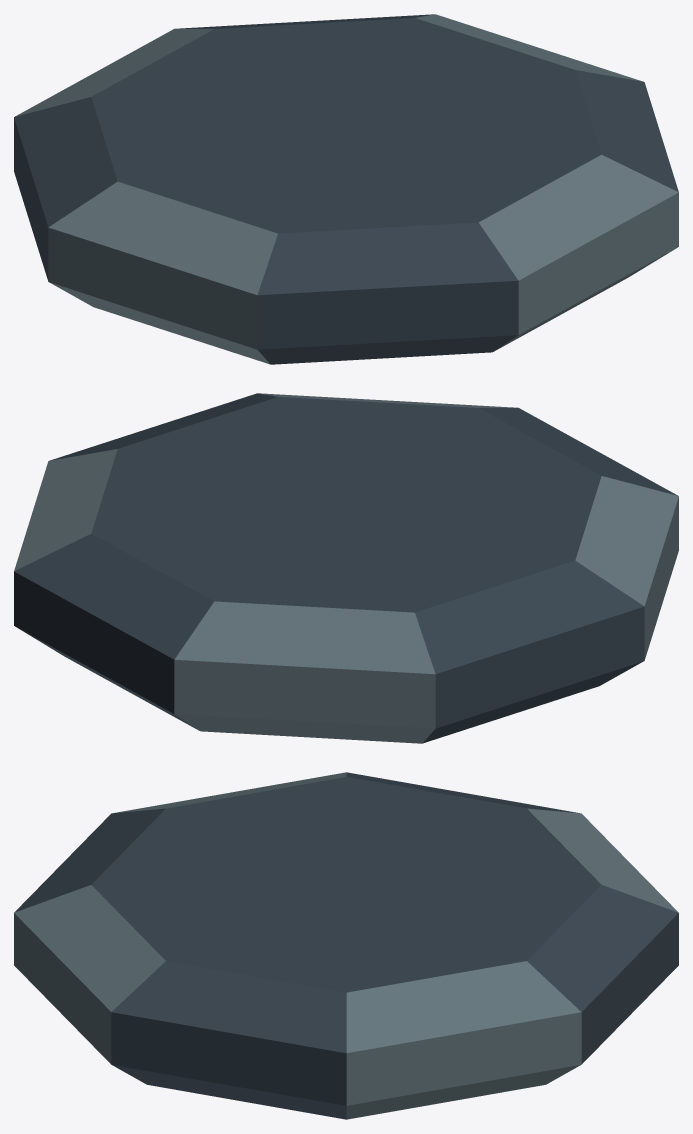
The model's file is CombatTurretBase.obj.
The picture shows the model from 3 angles, top to bottom: view 1: azimuth 30°, elevation 25°; view 2: azimuth 150°, elevation 25°; view 3: azimuth 270°, elevation 25°; orthographic projection. The views are drawn at different scales.
Parts seen in each view (by area): view 1: CombatTurretBase; view 2: CombatTurretBase; view 3: CombatTurretBase.
Boxes of the visible parts, left/top/right/bottom form: CombatTurretBase: left=14, top=14, right=678, bottom=364; CombatTurretBase: left=14, top=393, right=678, bottom=743; CombatTurretBase: left=14, top=772, right=678, bottom=1119.
Bounding box in the file's own units: 1.62 × 0.3102 × 1.62.
1 material, 1 textured.
